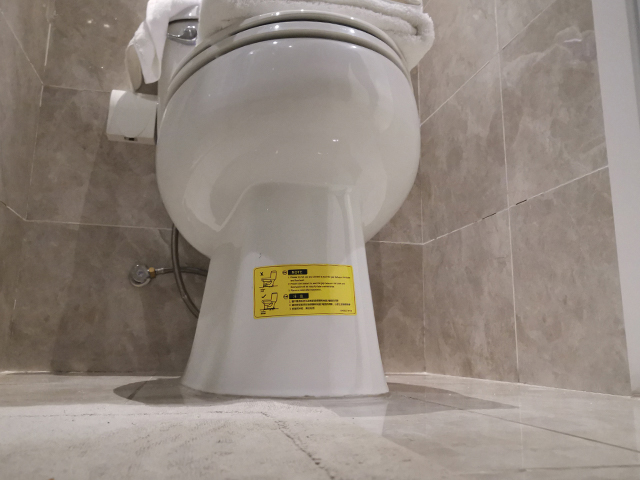closestool: (151, 1, 424, 402)
